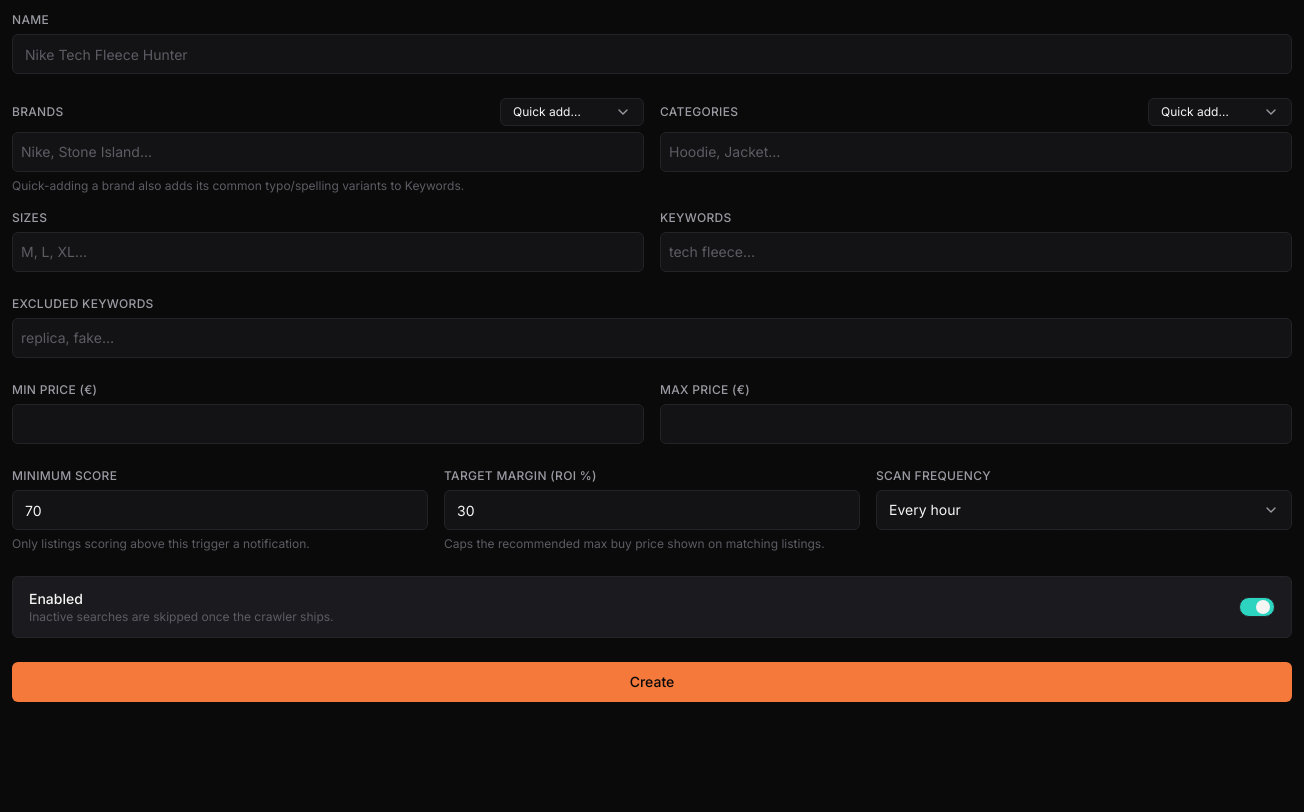
Scenario: SearchForm › shows an error and does not submit when name is empty
Click the button "Create".
click(652, 682)  # box x1=12 y1=662 x2=1292 y2=702
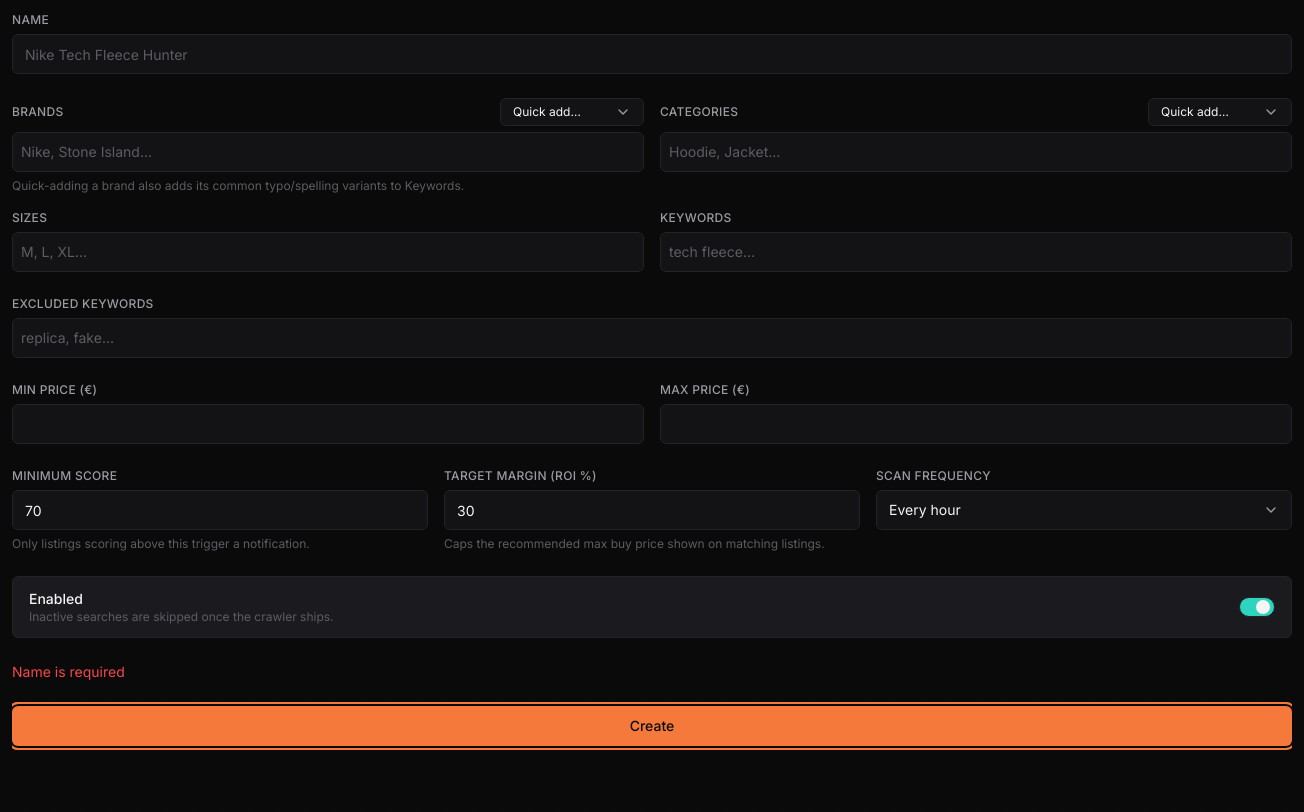
Expected: the text "Name is required" is shown, x1=12 y1=663 x2=125 y2=680
